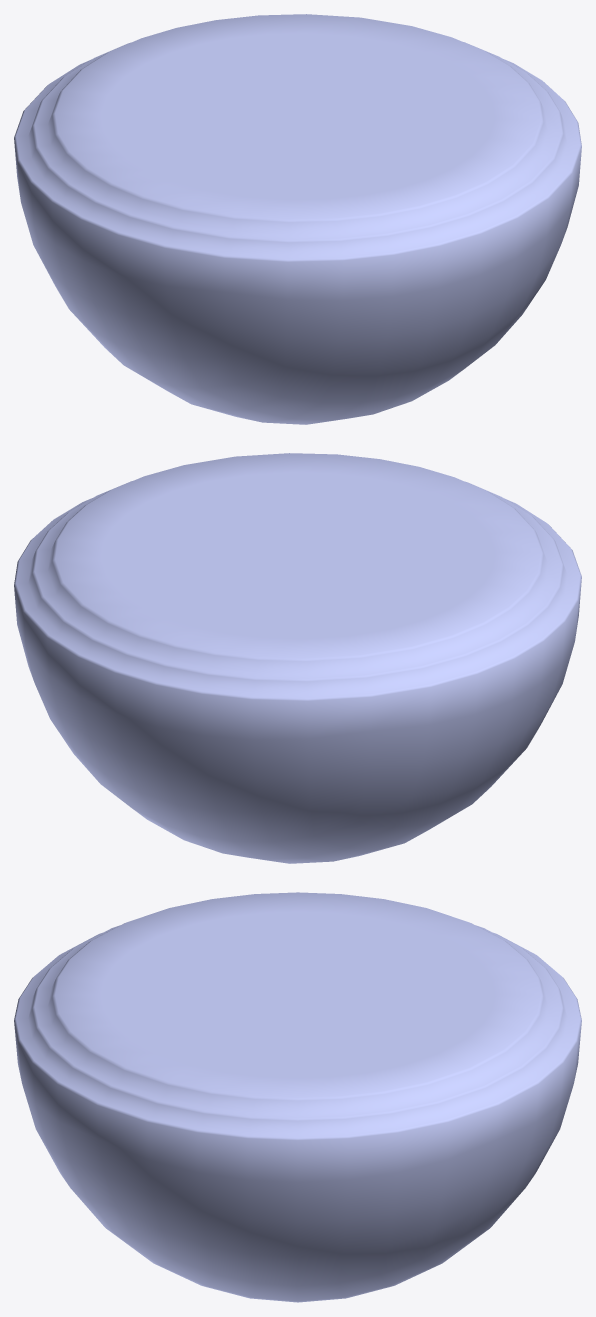
File: Semisphere_18.fbx
3 renders of one model, top to bottom at view 1: azimuth 30°, elevation 25°; view 2: azimuth 150°, elevation 25°; view 3: azimuth 270°, elevation 25°, orthographic.
Visible parts, largest first — view 1: Semisphere_18; view 2: Semisphere_18; view 3: Semisphere_18.
Boxes of the visible parts, x1,y1,x2,y2 form: Semisphere_18: (14, 14, 581, 424); Semisphere_18: (14, 453, 581, 863); Semisphere_18: (14, 892, 581, 1302).
Size of the model in its own units: 1800 by 985 by 1800.
